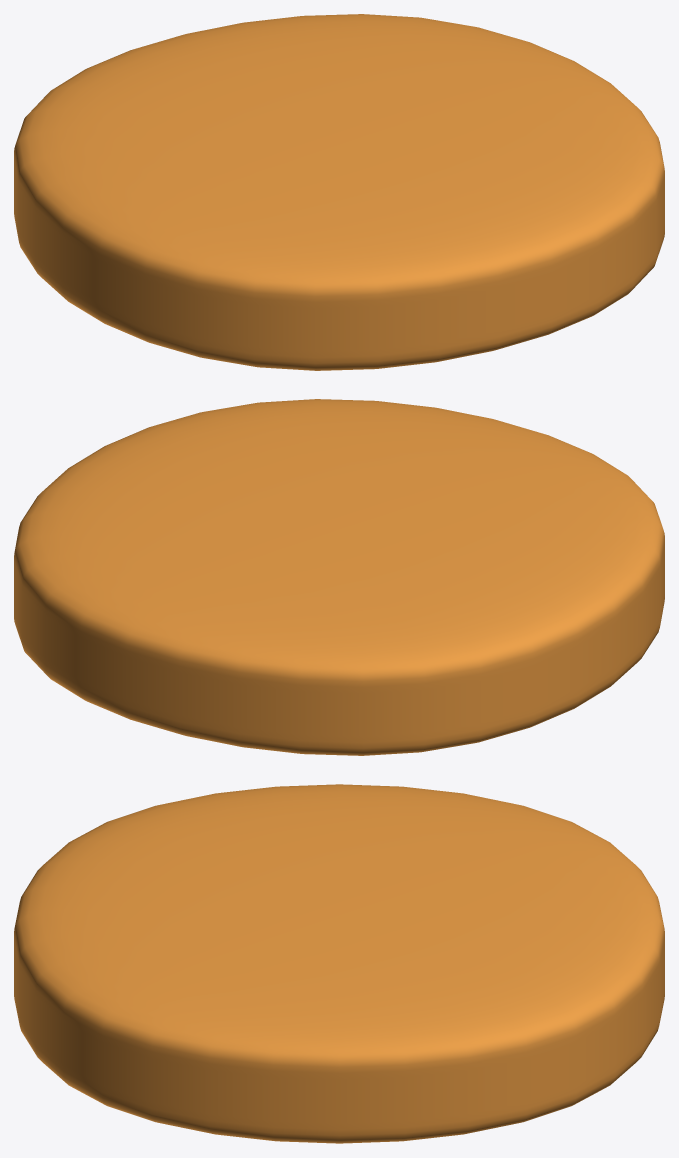
Rendered from panInferior.glb.
3 views of the same model, one above another, from view 1: azimuth 30°, elevation 25°; view 2: azimuth 150°, elevation 25°; view 3: azimuth 270°, elevation 25° (orthographic). The views are drawn at different scales.
Parts seen in each view (by area): view 1: PanInferior; view 2: PanInferior; view 3: PanInferior.
Part boxes in pixels (x1,y1,x2,y2): PanInferior: (14,14,664,370); PanInferior: (14,399,664,755); PanInferior: (14,784,664,1143).
Size of the model in its own units: 1.83 by 0.3813 by 1.83.
